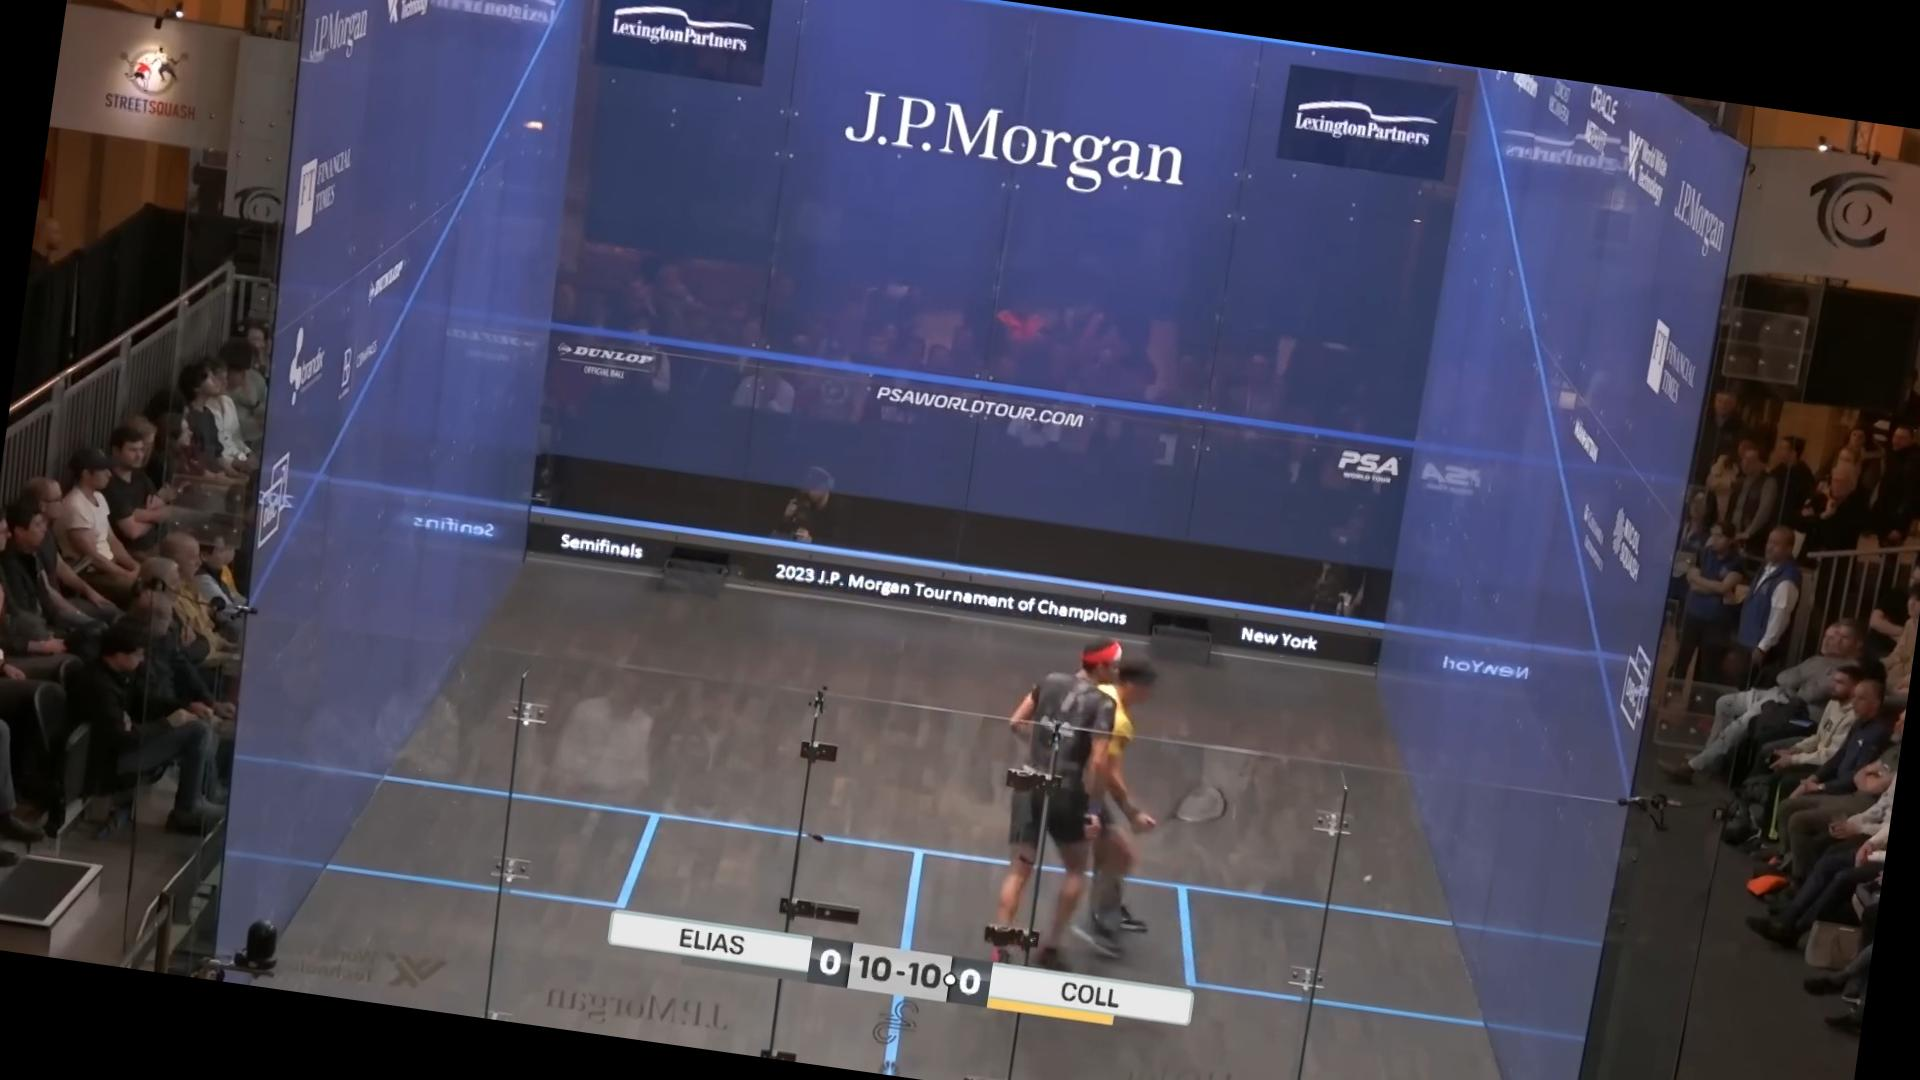Racket: (1135, 764, 1236, 843)
